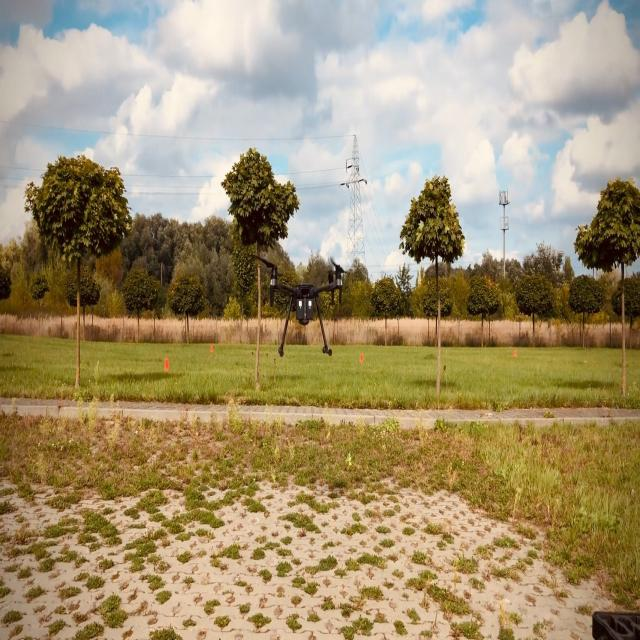drone: (252, 252, 347, 357)
